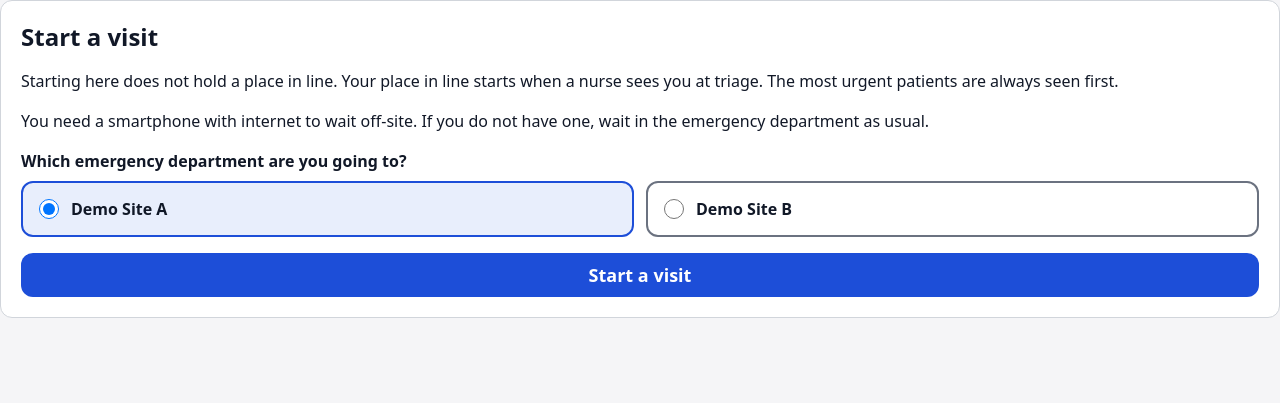
Test case: StartVisit start problem › clears the start problem when the patient picks the other site
Click the button "Start a visit".
click(640, 275)  # box [21, 253, 1259, 297]
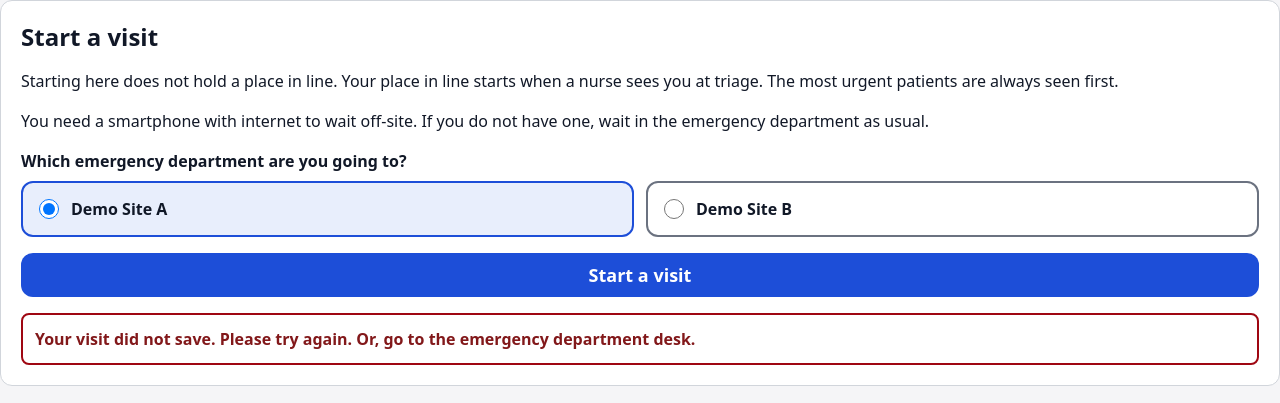
Expected: the message shows "Your visit did not save. Please try again. Or, go to the emergency department desk.", [35, 328, 695, 350]
Click the radio button named "site".
click(674, 209)  # box [664, 199, 684, 219]
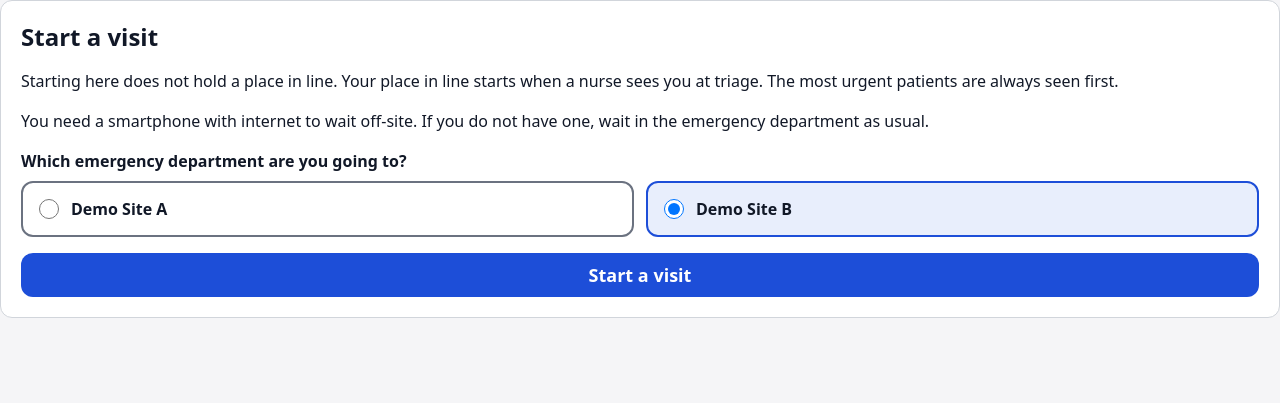
Expected: the message is gone
